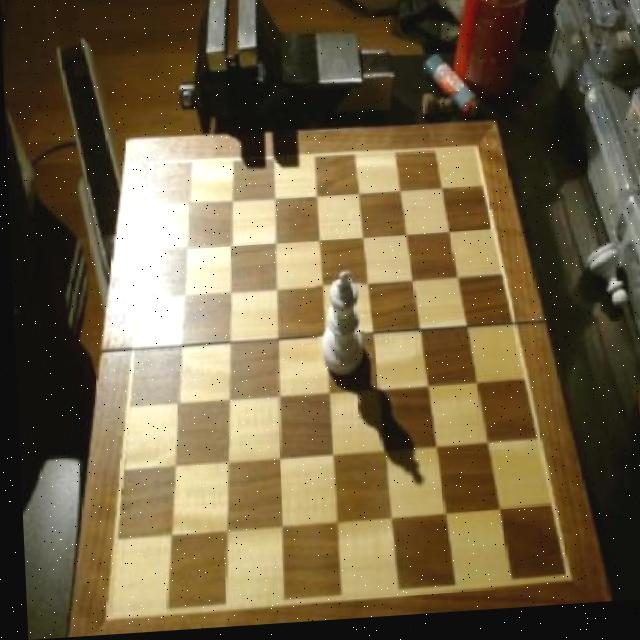white-bishop: (312, 277, 362, 389)
